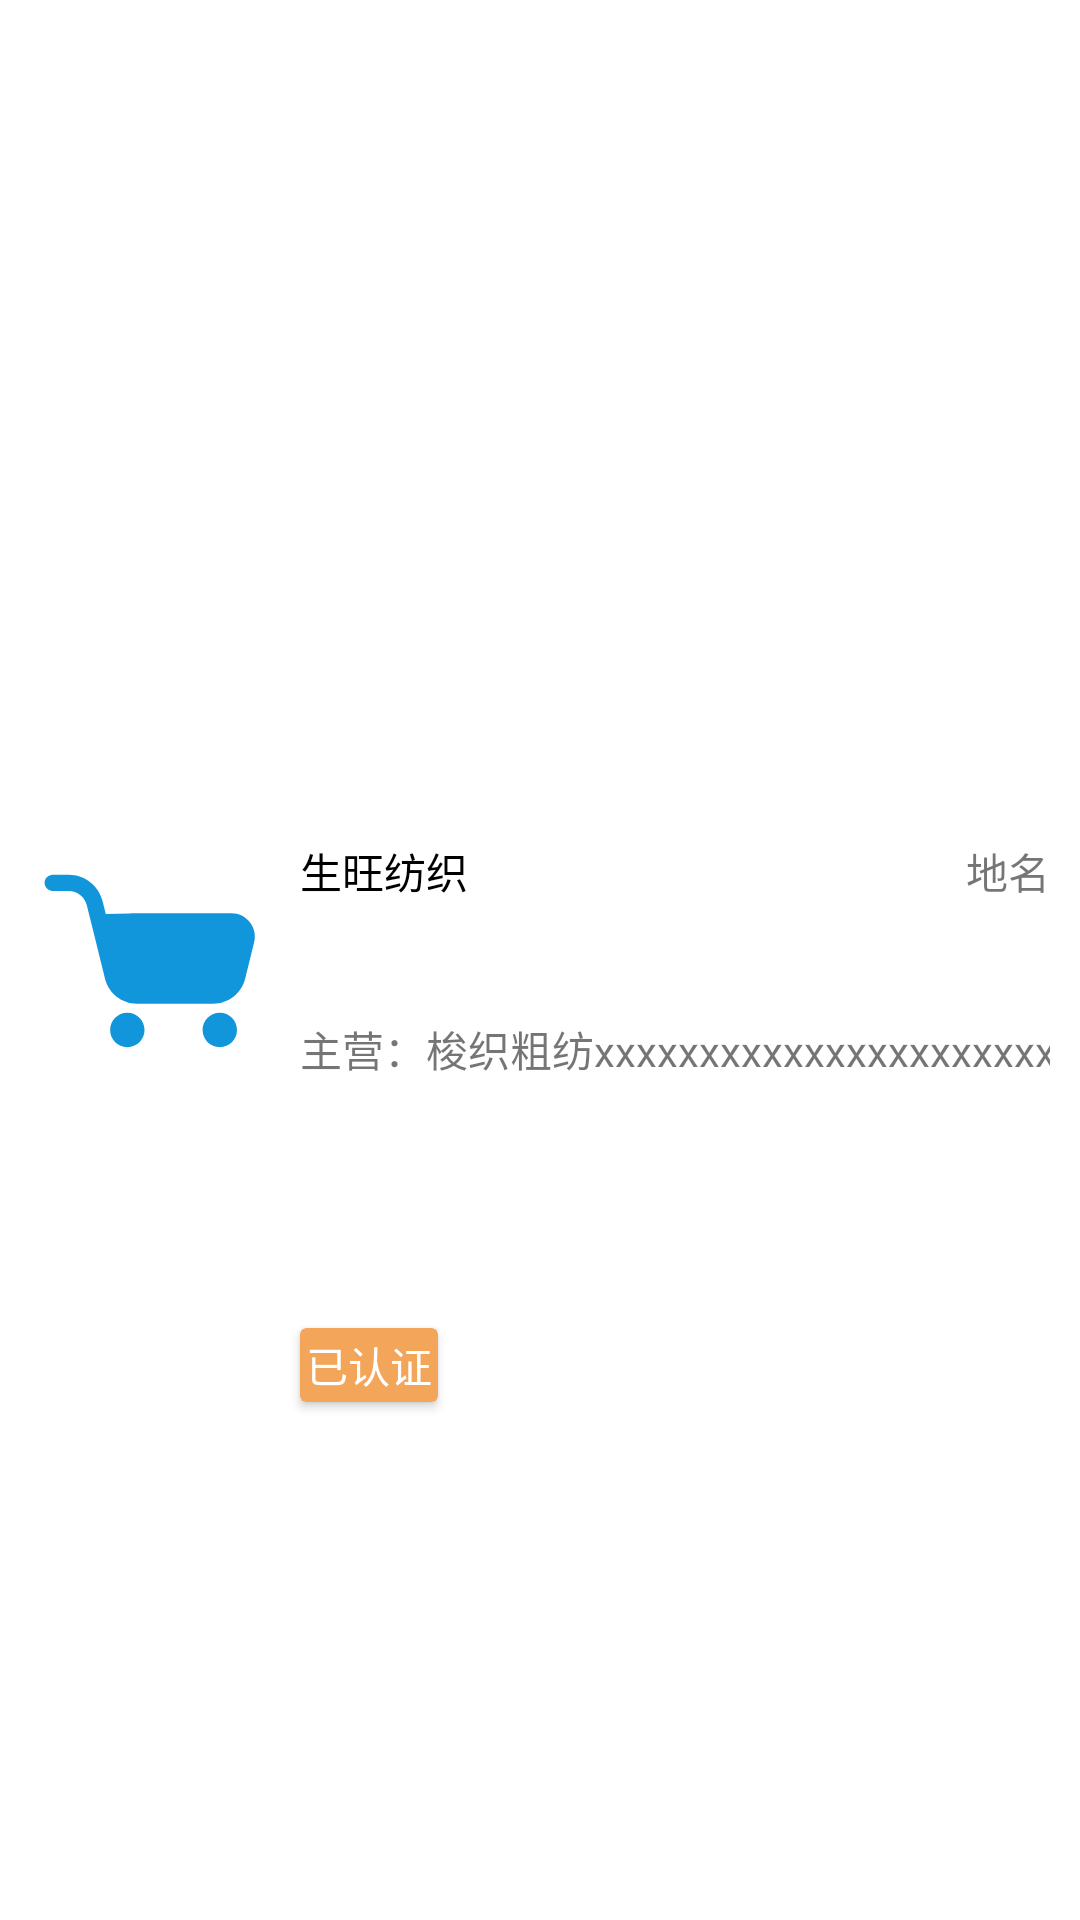

Named icons in this screenshot (1080 × 1920) and their centers, (x,y):
gouwuche: (149,961)
